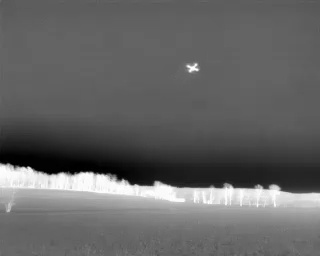DRONE: (182, 58, 204, 78)
